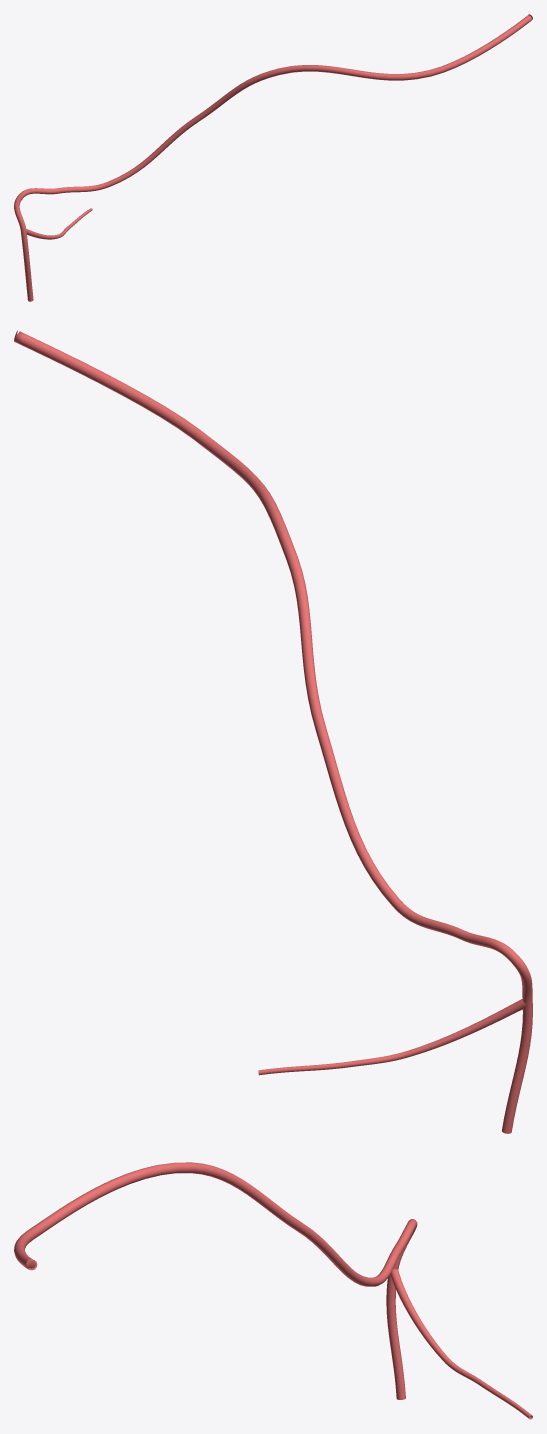
File: Suprascapular_artery.r_BezierCurve.152.glb
3 renders of one model, top to bottom at view 1: azimuth 30°, elevation 25°; view 2: azimuth 150°, elevation 25°; view 3: azimuth 270°, elevation 25°, orthographic. The views are drawn at different scales.
Parts seen in each view (by area): view 1: Suprascapular_artery.r_BezierCurve.152; view 2: Suprascapular_artery.r_BezierCurve.152; view 3: Suprascapular_artery.r_BezierCurve.152.
Part boxes in pixels (left/top/right/bottom): Suprascapular_artery.r_BezierCurve.152: left=14, top=14, right=532, bottom=301; Suprascapular_artery.r_BezierCurve.152: left=14, top=330, right=532, bottom=1133; Suprascapular_artery.r_BezierCurve.152: left=14, top=1162, right=532, bottom=1419.
Size of the model in its own units: 0.0977 by 0.0634 by 0.0661.
